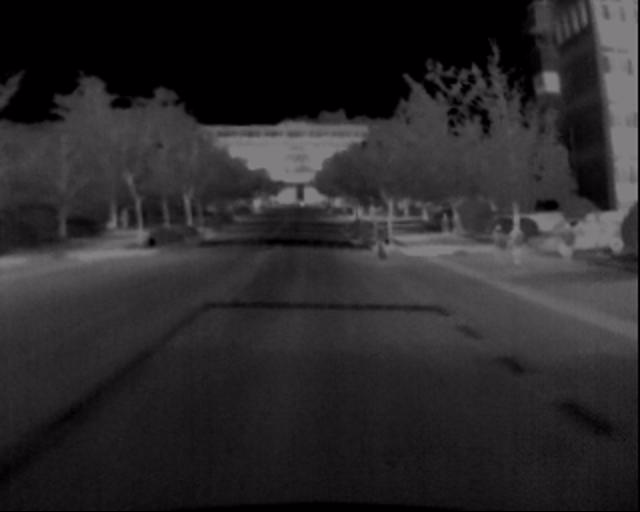person: (488, 221, 512, 273), (513, 217, 533, 277), (565, 216, 585, 270), (370, 220, 391, 267)
